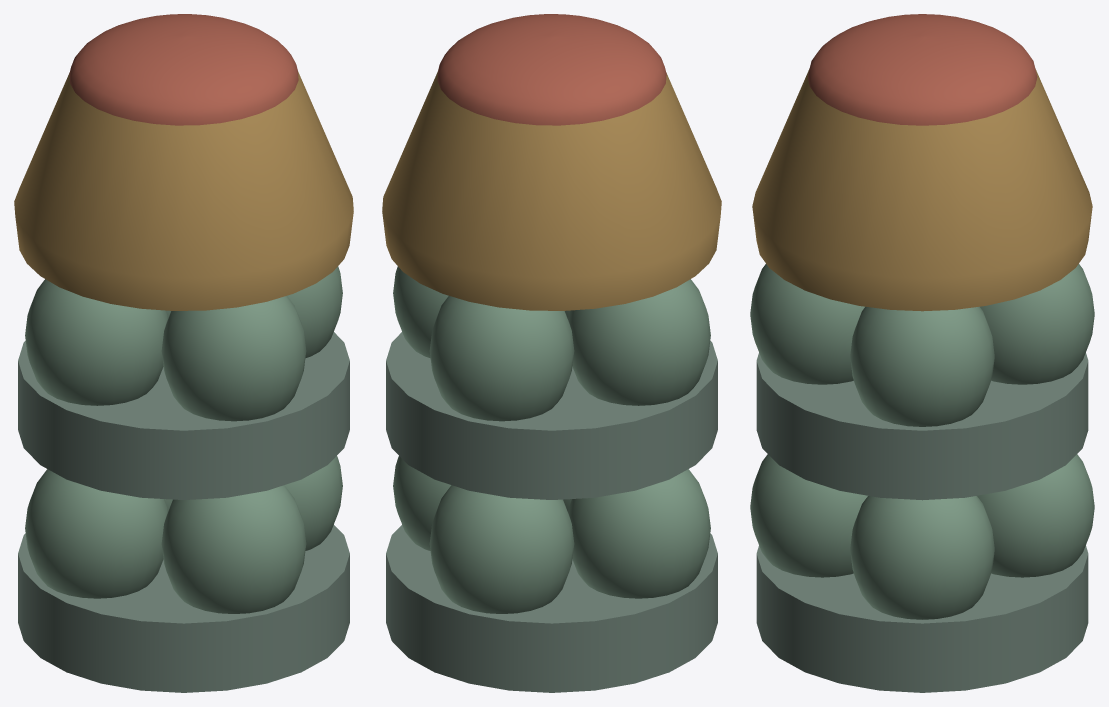
3 renders of one model, left to right at view 1: azimuth 30°, elevation 25°; view 2: azimuth 150°, elevation 25°; view 3: azimuth 270°, elevation 25°, orthographic.
Parts seen in each view (by area): view 1: Storage upper hood, Storage belt.001, Storage belt, Storage hood cap, Exposed storage bulb.003, Exposed storage bulb.007, Exposed storage bulb.002, Exposed storage bulb.006, Exposed storage bulb, Exposed storage bulb.004; view 2: Storage upper hood, Storage belt.001, Storage belt, Storage hood cap, Exposed storage bulb.001, Exposed storage bulb.005, Exposed storage bulb.002, Exposed storage bulb.006, Exposed storage bulb, Exposed storage bulb.004; view 3: Storage upper hood, Storage belt.001, Storage belt, Storage hood cap, Exposed storage bulb, Exposed storage bulb.004, Exposed storage bulb.001, Exposed storage bulb.003, Exposed storage bulb.005, Exposed storage bulb.007.
Boxes of the visible parts, bbox=[...] form: Storage upper hood: bbox=[14, 71, 353, 310]; Storage belt.001: bbox=[18, 332, 349, 499]; Storage belt: bbox=[18, 525, 349, 692]; Storage hood cap: bbox=[69, 14, 298, 125]; Exposed storage bulb.003: bbox=[161, 485, 306, 613]; Exposed storage bulb.007: bbox=[161, 296, 306, 421]; Exposed storage bulb.002: bbox=[25, 469, 167, 598]; Exposed storage bulb.006: bbox=[25, 279, 167, 405]; Exposed storage bulb: bbox=[284, 456, 342, 550]; Exposed storage bulb.004: bbox=[287, 266, 342, 358]; Storage upper hood: bbox=[382, 71, 721, 310]; Storage belt.001: bbox=[386, 332, 717, 499]; Storage belt: bbox=[386, 525, 717, 692]; Storage hood cap: bbox=[437, 14, 666, 125]; Exposed storage bulb.001: bbox=[429, 485, 574, 613]; Exposed storage bulb.005: bbox=[429, 296, 574, 421]; Exposed storage bulb.002: bbox=[568, 469, 710, 598]; Exposed storage bulb.006: bbox=[568, 279, 710, 405]; Exposed storage bulb: bbox=[393, 456, 451, 550]; Exposed storage bulb.004: bbox=[393, 266, 448, 358]; Storage upper hood: bbox=[752, 68, 1092, 311]; Storage belt.001: bbox=[756, 353, 1088, 500]; Storage belt: bbox=[756, 545, 1088, 692]; Storage hood cap: bbox=[807, 14, 1037, 125]; Exposed storage bulb: bbox=[850, 496, 994, 619]; Exposed storage bulb.004: bbox=[850, 306, 994, 426]; Exposed storage bulb.001: bbox=[977, 454, 1094, 577]; Exposed storage bulb.003: bbox=[750, 454, 867, 577]; Exposed storage bulb.005: bbox=[980, 264, 1094, 384]; Exposed storage bulb.007: bbox=[750, 264, 864, 384].
Size of the model in its own units: 1.62 by 3.04 by 1.62.
